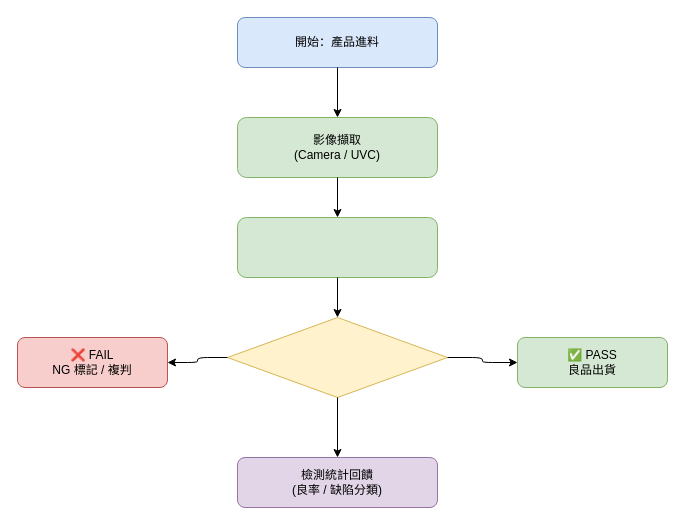
The diagram is 685 pixels wide and 525 high, and some of its shapes have lost their labels. Each missing label, with the centre of its shape:
前處理 (灰階→二值化→形態學): the point at 337,247
缺陷判斷 (Golden 比對 / 特徵分析): the point at 337,357
